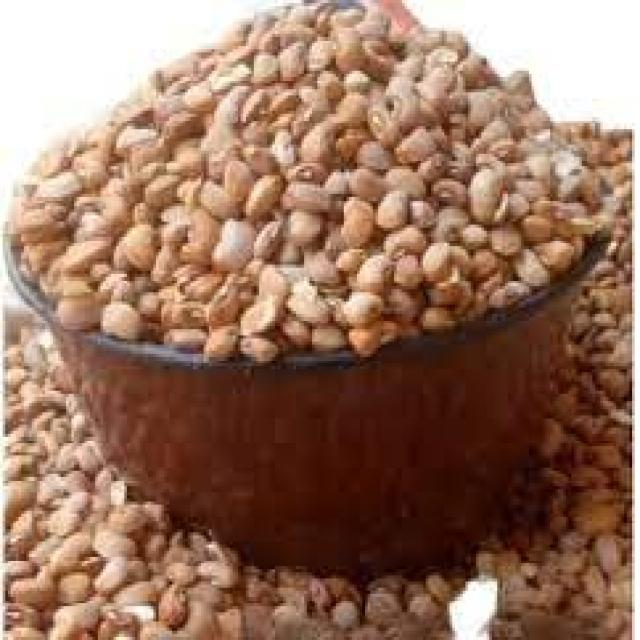Beans: (71, 104, 512, 296)
